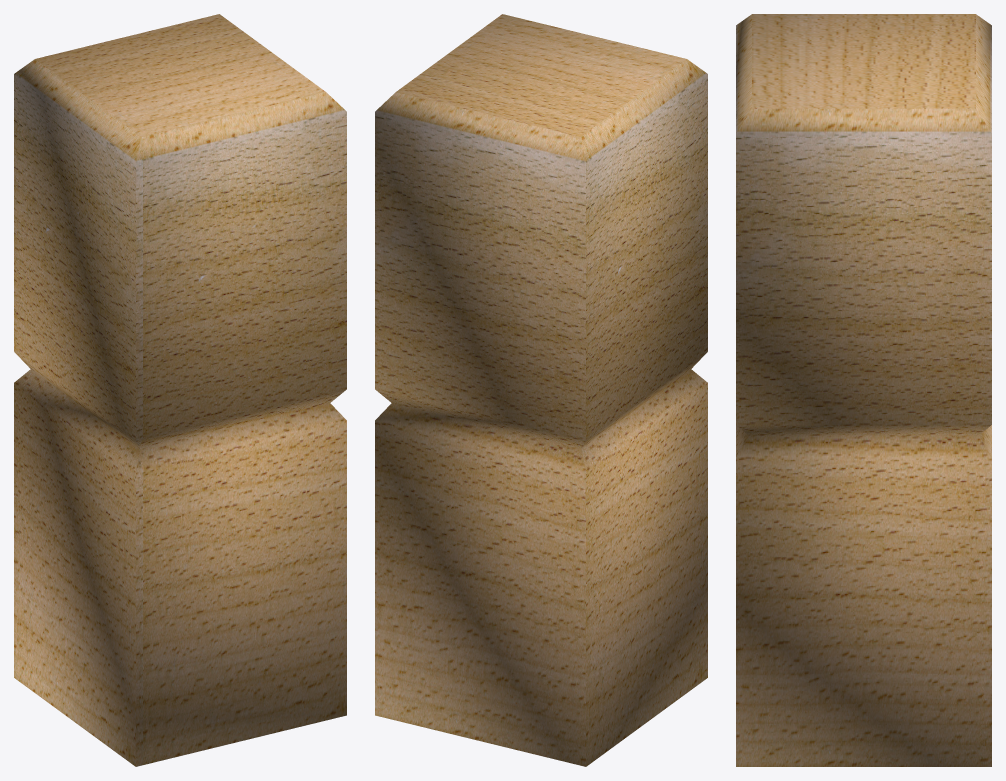
Rendered from Koma_B_L_C1.fbx.
3 views of the same model, side by side, from view 1: azimuth 30°, elevation 25°; view 2: azimuth 150°, elevation 25°; view 3: azimuth 270°, elevation 25° (orthographic). The views are drawn at different scales.
Visible parts, largest first — view 1: Koma_B_L_C1; view 2: Koma_B_L_C1; view 3: Koma_B_L_C1.
Boxes of the visible parts, x1,y1,x2,y2 form: Koma_B_L_C1: (14, 14, 346, 766); Koma_B_L_C1: (375, 14, 707, 766); Koma_B_L_C1: (736, 14, 991, 766).
Size of the model in its own units: 1.28 by 3.6 by 1.28.
Materials: 1 (1 with a texture image).
